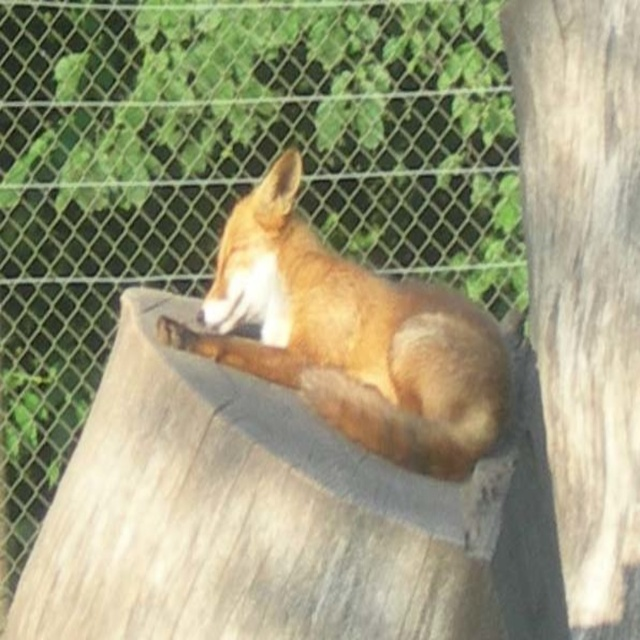Fox: (155, 141, 517, 483)
